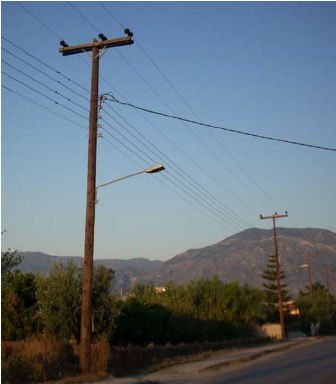utility_pole: (49, 22, 142, 106), (255, 206, 292, 236)
